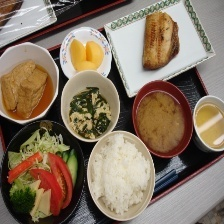rice: (90, 133, 152, 215)
